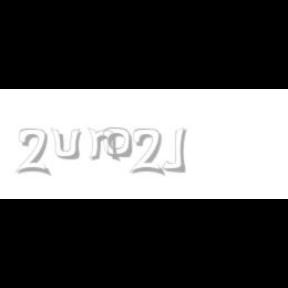2: (15, 128, 49, 176), (129, 128, 163, 176)
J: (162, 128, 186, 172)
n: (87, 128, 121, 162)
o: (102, 128, 132, 158)
u: (50, 128, 86, 160)
